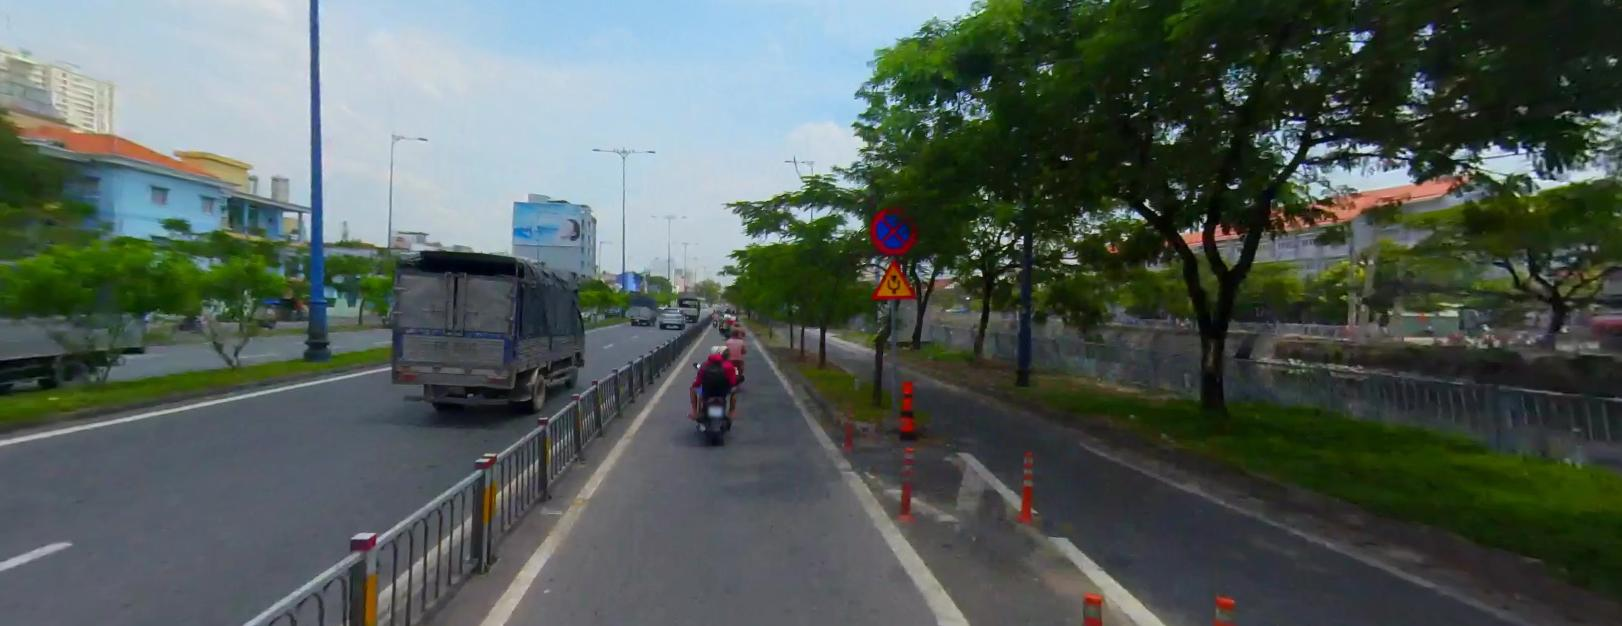Cam dung va do: (871, 205, 917, 253), (871, 206, 918, 252)
Nguy hiem: (873, 259, 919, 298), (873, 259, 916, 297)
